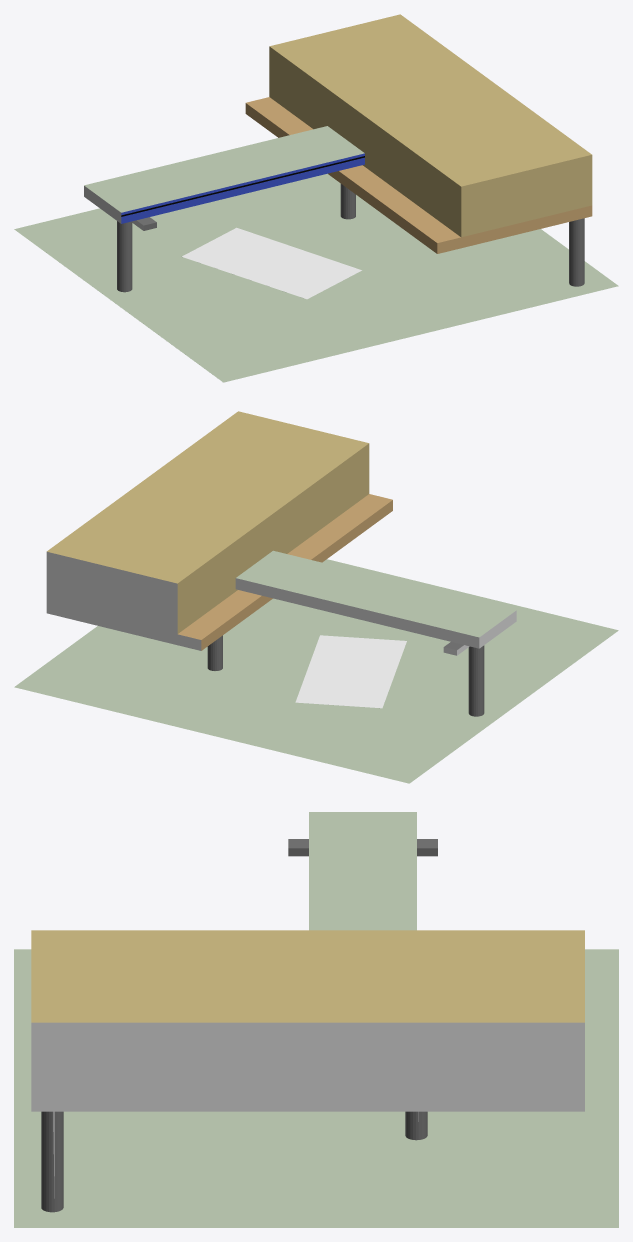
File: architecture.fbx
The picture shows the model from 3 angles, top to bottom: view 1: azimuth 30°, elevation 25°; view 2: azimuth 150°, elevation 25°; view 3: azimuth 270°, elevation 25°; orthographic projection. The views are drawn at different scales.
Parts seen in each view (by area): view 1: Model; view 2: Model; view 3: Model.
Part boxes in pixels (bbox=[...]): Model: bbox=[14, 14, 618, 382]; Model: bbox=[14, 411, 618, 783]; Model: bbox=[14, 812, 618, 1227].
Bounding box in the file's own units: 793 × 253 × 728.
